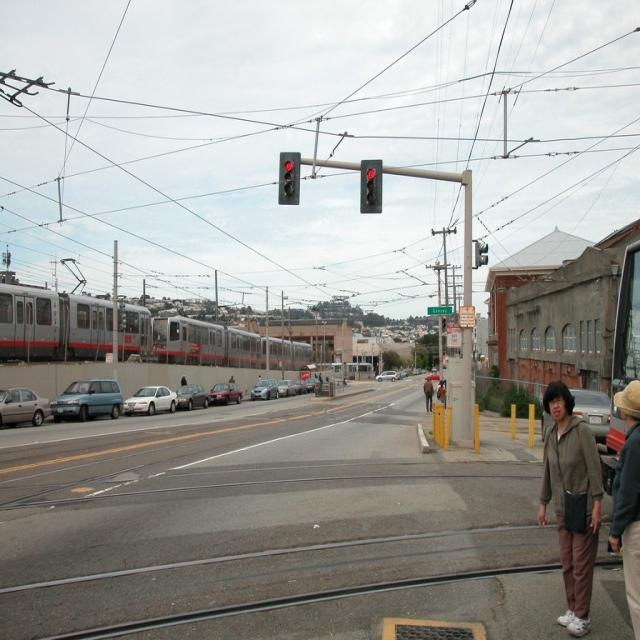off traffic light: (477, 240, 488, 268)
traffic light: (278, 151, 301, 205), (359, 160, 381, 212)
